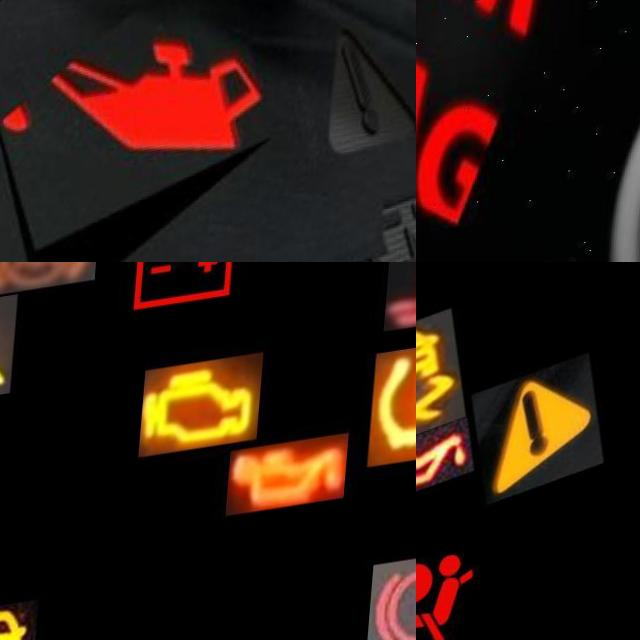Central Warning lamp: (467, 362, 616, 517)
Engine cooling system: (388, 262, 416, 347)
